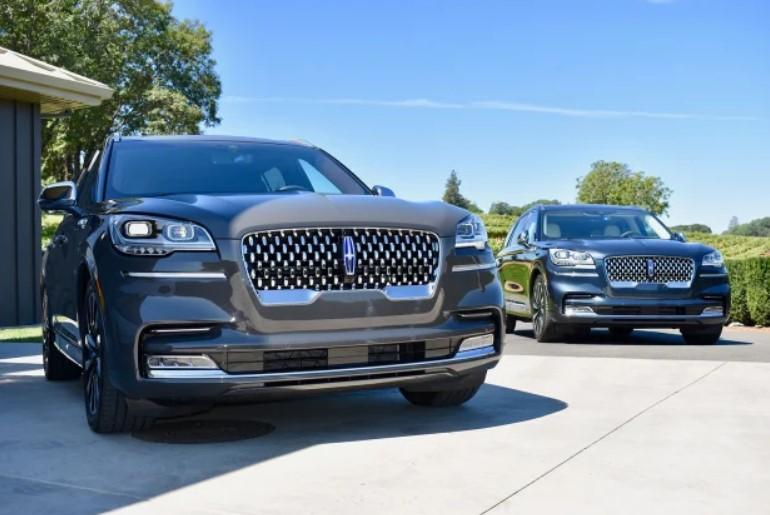lincoln: (331, 229, 367, 282), (642, 255, 658, 283)
